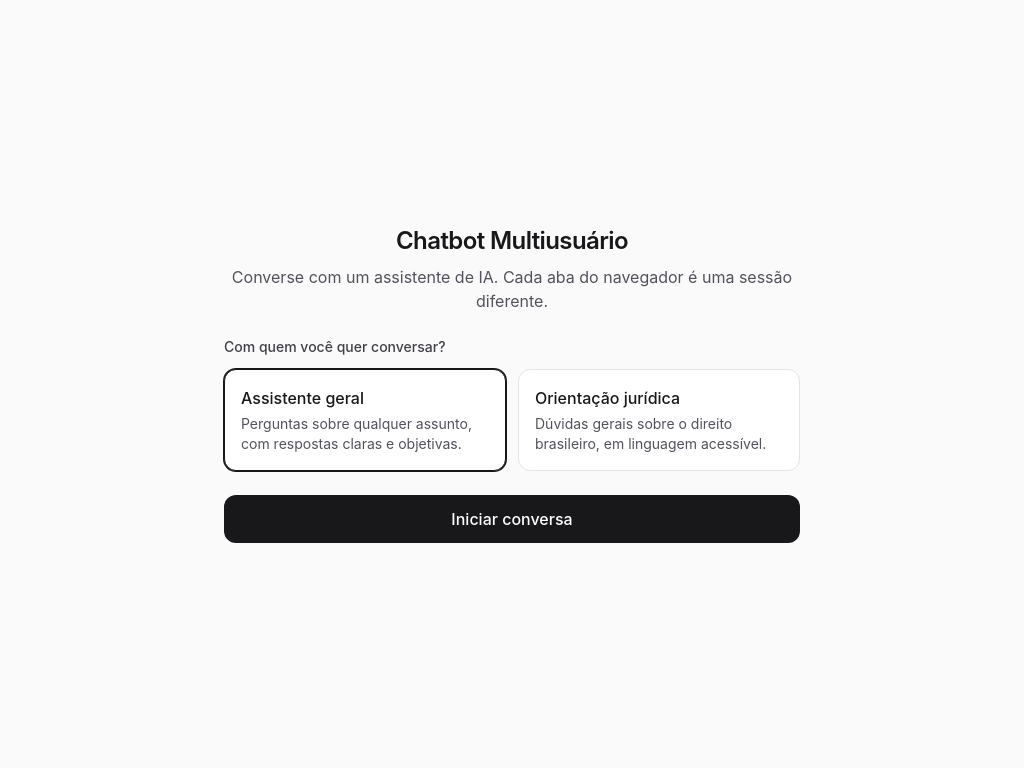
Test: iniciar conversa › usa a persona geral por padrão
Click the button "Iniciar conversa" at (512, 519), box [224,495,800,543]
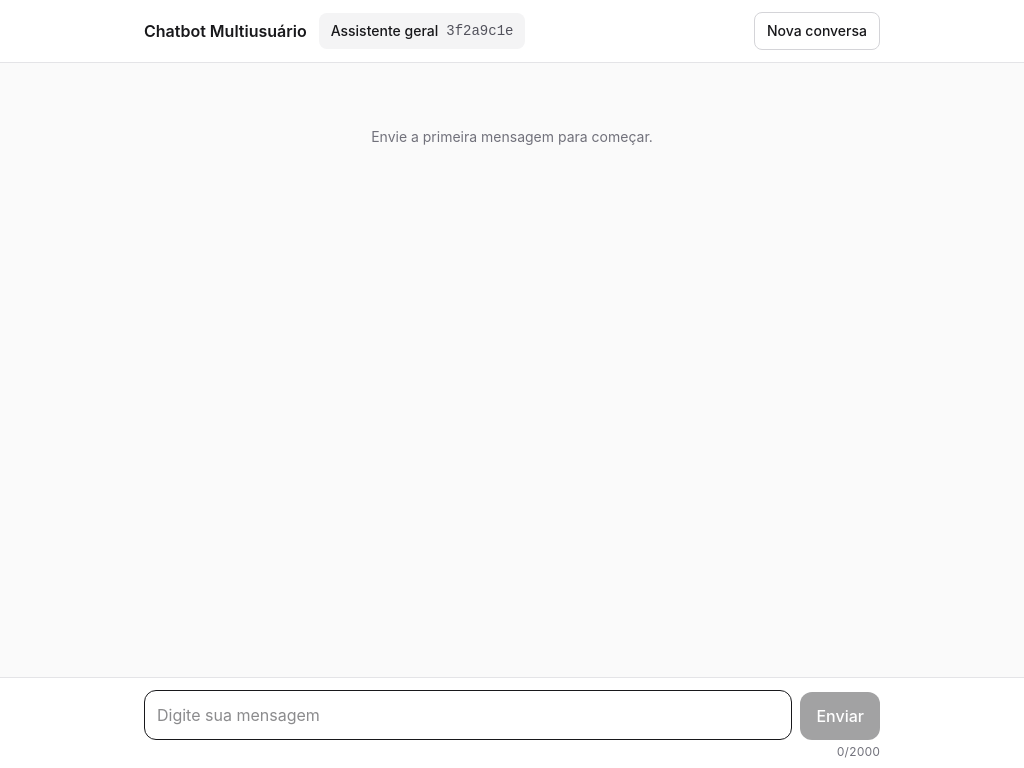
Expected: the text "3f2a9c1e" is shown, [446,21,513,41]
